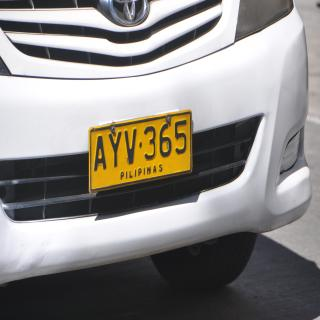license: (90, 111, 193, 193)
